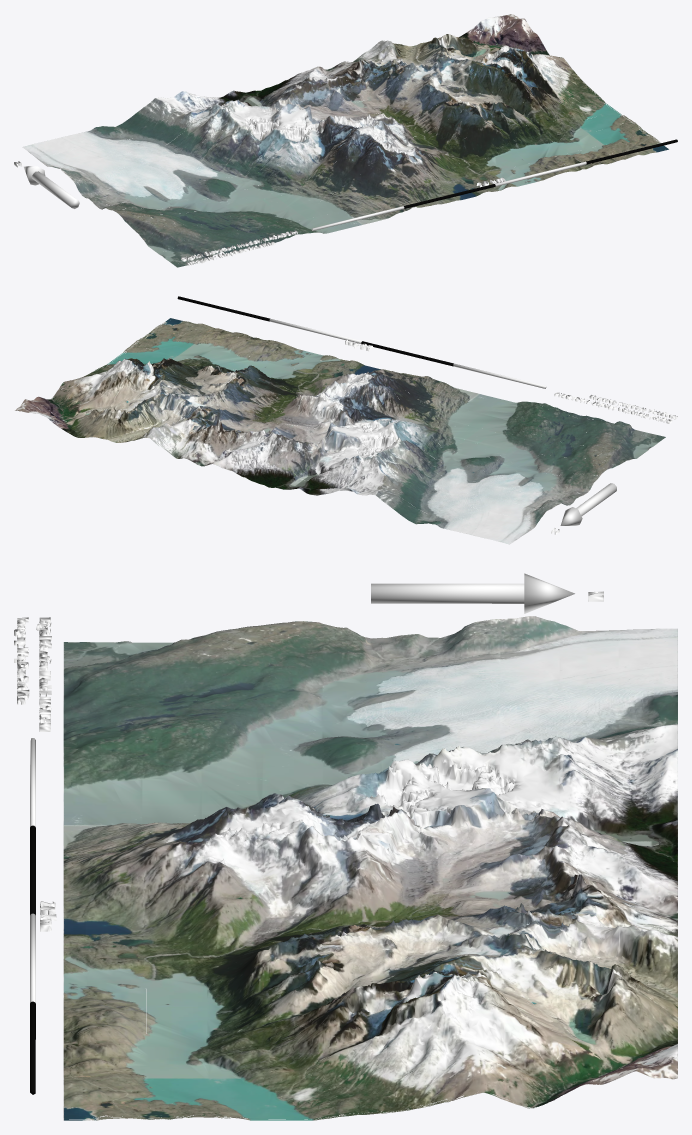
File: torres.glb
The picture shows the model from 3 angles, top to bottom: view 1: azimuth 30°, elevation 25°; view 2: azimuth 150°, elevation 25°; view 3: azimuth 270°, elevation 25°; orthographic projection. The views are drawn at different scales.
Parts seen in each view (by area): view 1: Object_11, Object_8, Object_10, Object_12, Object_9, Object_7, Object_13, Object_6, Object_4, Object_5, Object_16, Object_14; view 2: Object_5, Object_4, Object_6, Object_7, Object_13, Object_9, Object_8, Object_12, Object_10, Object_11, Object_16, Object_14; view 3: Object_10, Object_11, Object_6, Object_9, Object_12, Object_13, Object_8, Object_7, Object_5, Object_4, Object_14, Object_16.
Part boxes in pixels (x1,y1,x2,y2): Object_11: (127, 112, 666, 238); Object_8: (82, 49, 667, 206); Object_10: (113, 94, 666, 222); Object_12: (143, 122, 666, 253); Object_9: (97, 75, 667, 210); Object_7: (68, 45, 667, 195); Object_13: (158, 134, 665, 264); Object_6: (53, 45, 667, 177); Object_4: (22, 14, 668, 158); Object_5: (37, 25, 668, 167); Object_16: (14, 139, 677, 265); Object_14: (173, 146, 665, 267); Object_5: (30, 318, 539, 534); Object_4: (15, 318, 524, 544); Object_6: (45, 318, 553, 521); Object_7: (59, 319, 569, 509); Object_13: (151, 319, 661, 451); Object_9: (91, 318, 599, 494); Object_8: (76, 318, 584, 504); Object_12: (136, 318, 645, 459); Object_10: (105, 318, 614, 475); Object_11: (121, 319, 630, 466); Object_16: (177, 296, 677, 534); Object_14: (167, 319, 665, 439); Object_10: (64, 621, 328, 1118); Object_11: (64, 625, 270, 1118); Object_6: (64, 616, 562, 1120); Object_9: (64, 624, 386, 1119); Object_12: (64, 636, 211, 1117); Object_13: (64, 641, 151, 1117); Object_8: (64, 634, 446, 1119); Object_7: (64, 619, 504, 1119); Object_5: (64, 624, 619, 1120); Object_4: (64, 628, 677, 1120); Object_14: (63, 642, 386, 1117); Object_16: (14, 573, 603, 1094).
Size of the model in its own units: 45782 by 3746 by 25327.
Materials: 2 (1 with a texture image).
